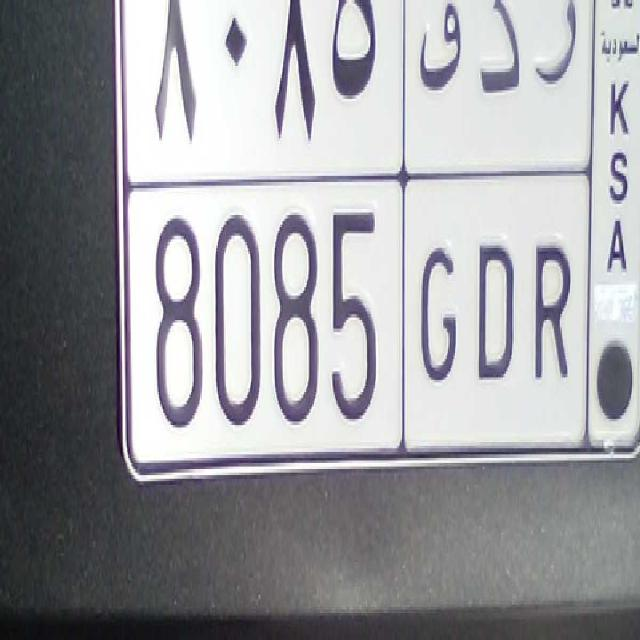license_plate: (144, 189, 586, 440)
